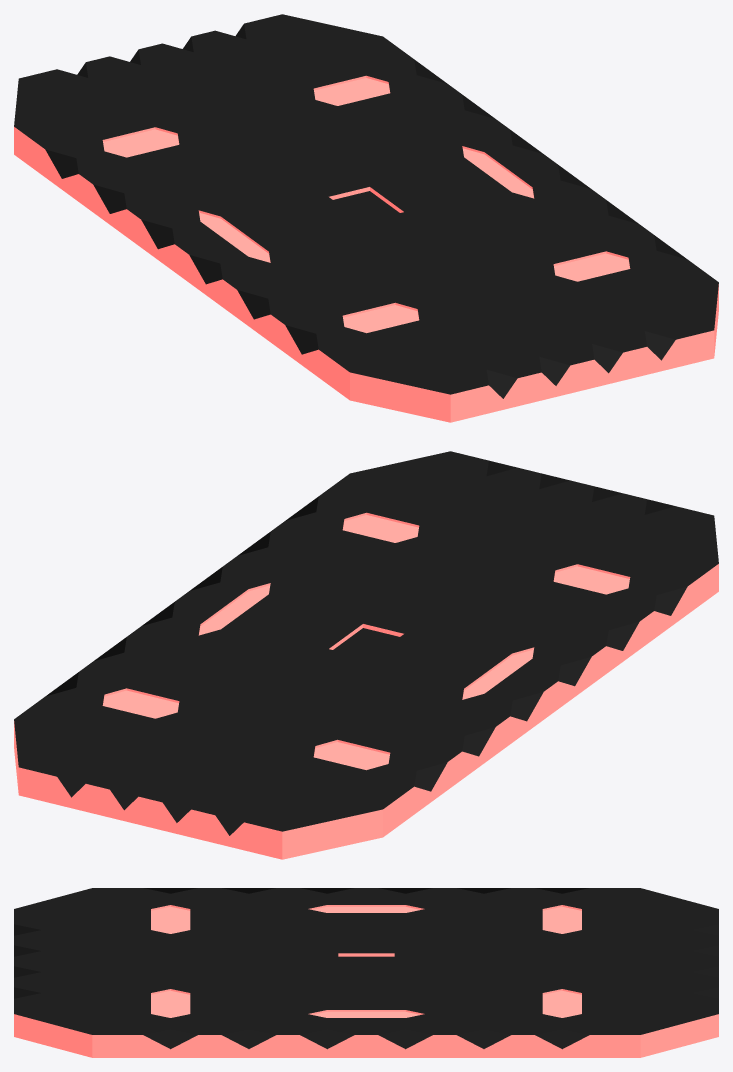
File: plat_long_1.glb
3 views of the same model, one above another, from view 1: azimuth 30°, elevation 25°; view 2: azimuth 150°, elevation 25°; view 3: azimuth 270°, elevation 25° (orthographic). The views are drawn at different scales.
Visible parts, largest first — view 1: Cube; view 2: Cube; view 3: Cube.
Part boxes in pixels (x1,y1,x2,y2): Cube: (14, 14, 718, 422); Cube: (14, 451, 718, 859); Cube: (14, 888, 718, 1057).
Size of the model in its own units: 8.7 by 0.6318 by 17.63.
